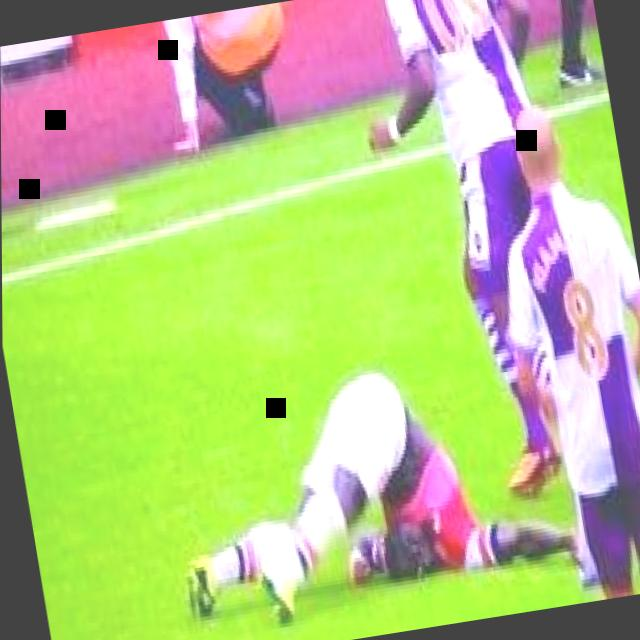Fall-Detected: (150, 325, 598, 627)
